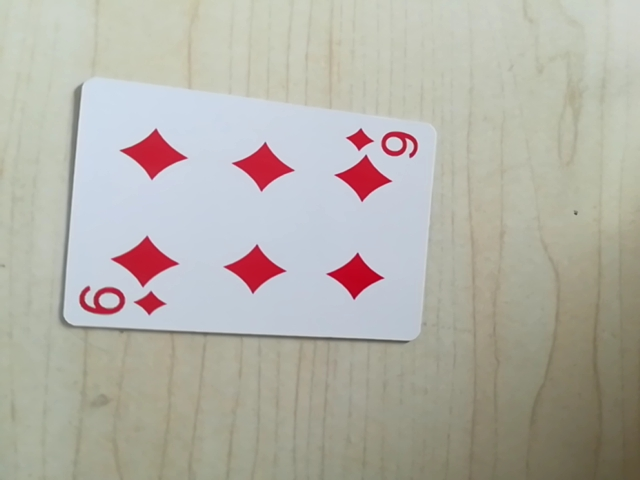fk 6: (72, 284, 172, 325), (343, 123, 423, 162)
